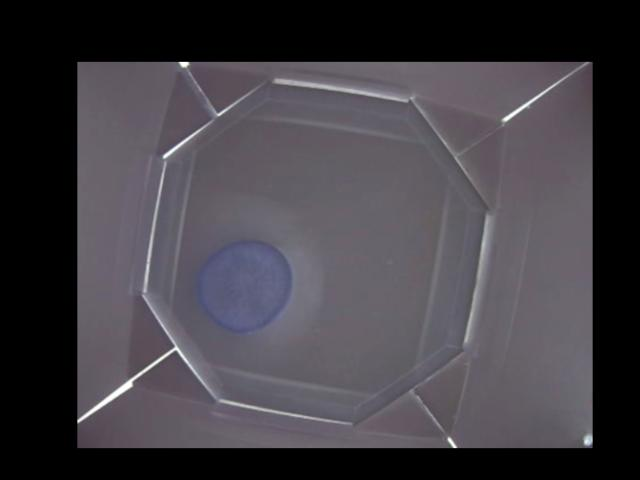Mooli: (199, 240, 293, 335)
